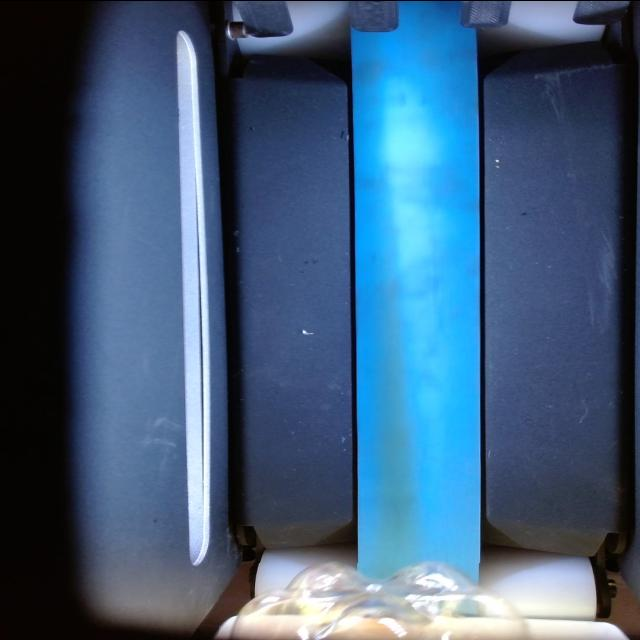bottle: (220, 562, 527, 640)
